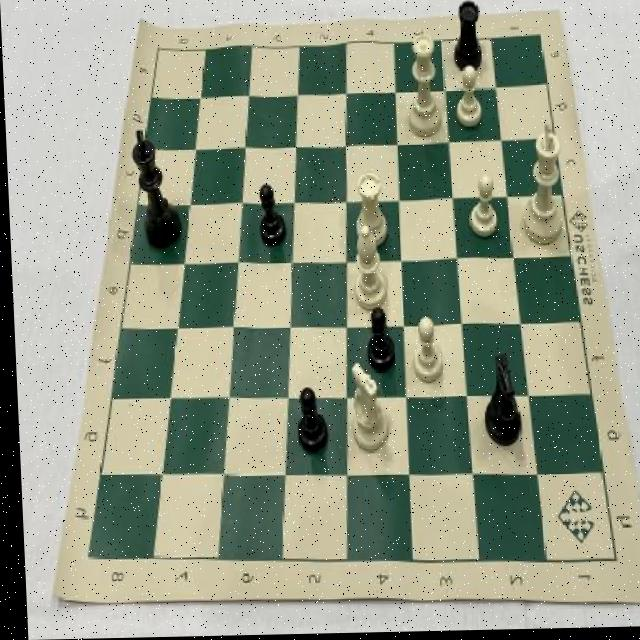black-bishop: (124, 125, 183, 254)
black-king: (475, 350, 532, 454)
black-knight: (358, 300, 397, 375), (288, 384, 327, 458), (253, 181, 289, 253)
black-queen: (446, 0, 486, 78)
black-rook: (346, 222, 388, 317)
white-bishop: (515, 118, 571, 254)
white-king: (337, 361, 388, 456)
white-knight: (405, 311, 443, 394), (461, 170, 502, 244), (449, 67, 483, 135)
white-pawn: (397, 29, 444, 145)
white-queen: (345, 166, 391, 254)
